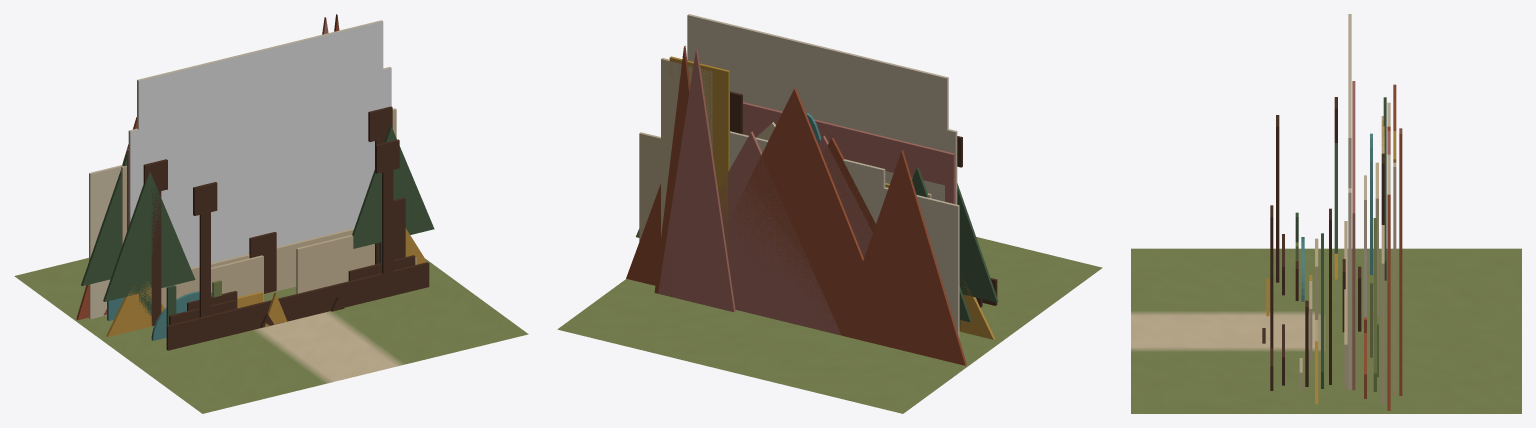
Rendered from basic-grand.glb.
3 views of the same model, side by side, from view 1: azimuth 30°, elevation 25°; view 2: azimuth 150°, elevation 25°; view 3: azimuth 270°, elevation 25° (orthographic). The views are drawn at different scales.
Visible parts, largest first — view 1: house__base, manor__art, house__art, barn_farm__art, village__art, village_green, manor, barn_farm, village, village_b, village_green__art; view 2: house__base, village, house, manor, manor__art, village_b, house__art, barn_farm__art, barn_farm, village__art, village_green, village_b__art; view 3: house__base, village_green, village, barn_farm, village_b, house, manor, village__art, manor__art.
Part boxes in pixels (x1,y1,x2,y2): house__base: (14,258,528,413); manor__art: (137,20,383,267); house__art: (167,46,354,262); barn_farm__art: (137,22,383,263); village__art: (128,70,391,262); village_green: (81,106,415,327); manor: (103,17,434,315); barn_farm: (104,14,429,350); village: (76,108,396,320); village_b: (151,197,416,340); village_green__art: (128,67,391,235); house__base: (557,237,1102,413); village: (626,102,966,365); house: (724,87,897,349); manor: (658,48,998,328); manor__art: (687,14,948,200); village_b: (718,131,977,335); house__art: (718,42,916,178); barn_farm__art: (687,16,948,199); barn_farm: (654,45,997,339); village__art: (782,92,957,204); village_green: (636,113,982,322); village_b__art: (743,99,938,199); house__base: (1131,248,1521,413); village_green: (1262,97,1386,391); village: (1309,81,1396,410); barn_farm: (1270,116,1402,403); village_b: (1266,212,1396,394); house: (1358,100,1396,357); manor: (1321,120,1402,388); village__art: (1348,194,1351,389); manor__art: (1348,14,1351,188).
Size of the model in its own units: 2 by 1.44 by 2.
